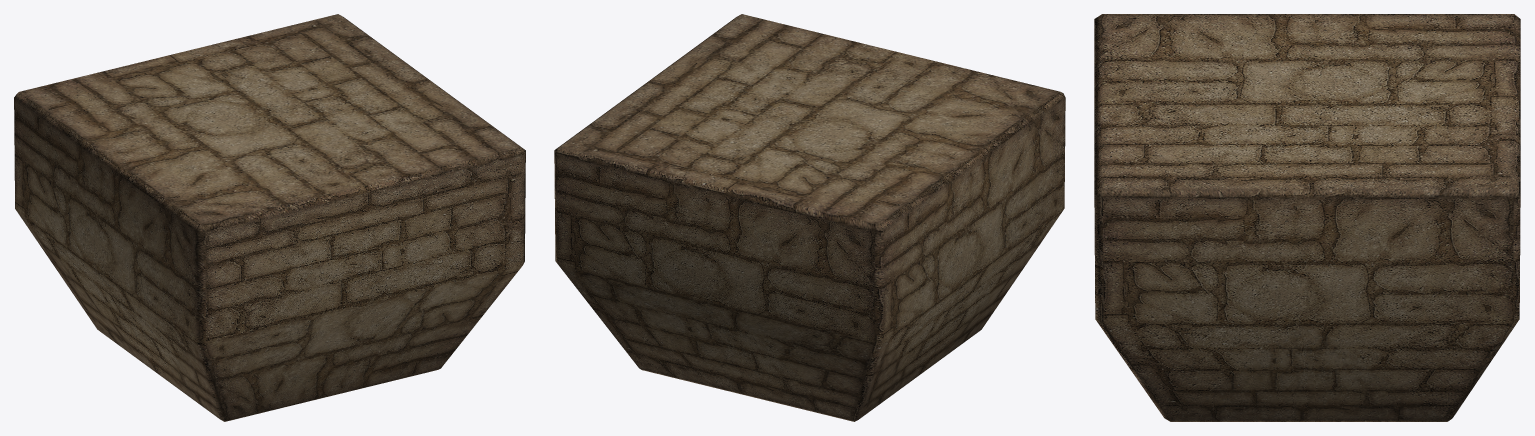
Rendered from Block_04.fbx.
3 views of the same model, side by side, from view 1: azimuth 30°, elevation 25°; view 2: azimuth 150°, elevation 25°; view 3: azimuth 270°, elevation 25° (orthographic). The views are drawn at different scales.
Parts seen in each view (by area): view 1: Block_04; view 2: Block_04; view 3: Block_04.
Part boxes in pixels (x1,y1,x2,y2): Block_04: [14, 14, 525, 421]; Block_04: [554, 14, 1065, 421]; Block_04: [1094, 14, 1520, 421].
Size of the model in its own units: 5.97 by 4.01 by 5.92.
